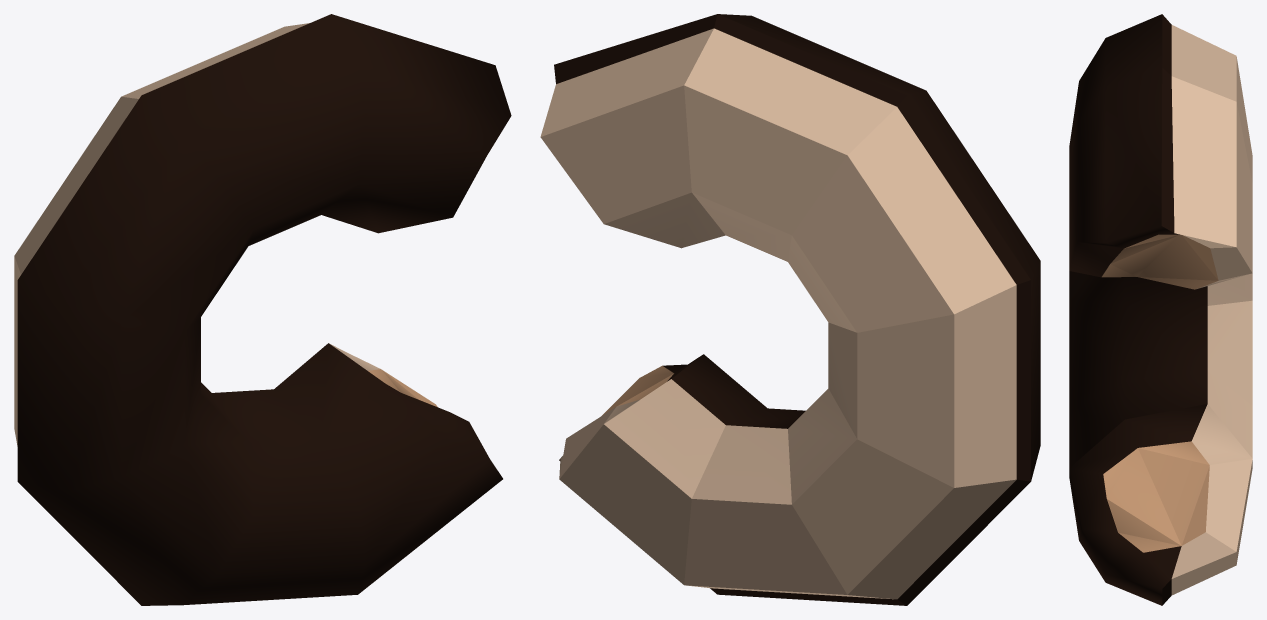
The model's file is Simple_Donut_(alt).obj.
3 views of the same model, side by side, from view 1: azimuth 30°, elevation 25°; view 2: azimuth 150°, elevation 25°; view 3: azimuth 270°, elevation 25° (orthographic). The views are drawn at different scales.
Parts seen in each view (by area): view 1: Simple_Donut_(alt); view 2: Simple_Donut_(alt); view 3: Simple_Donut_(alt).
Boxes of the visible parts, x1,y1,x2,y2 form: Simple_Donut_(alt): (14, 14, 511, 605); Simple_Donut_(alt): (540, 14, 1040, 605); Simple_Donut_(alt): (1069, 14, 1252, 605).
Size of the model in its own units: 0.1322 by 0.1536 by 0.0474.
